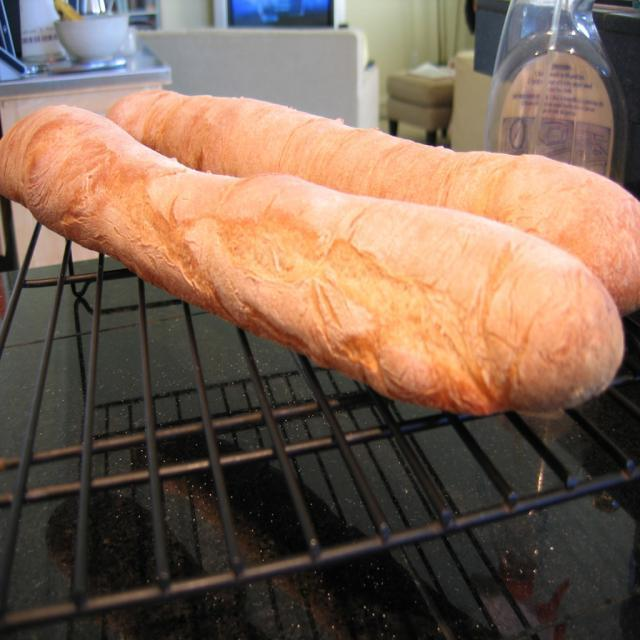Bread: (0, 105, 626, 419), (106, 87, 639, 317)
